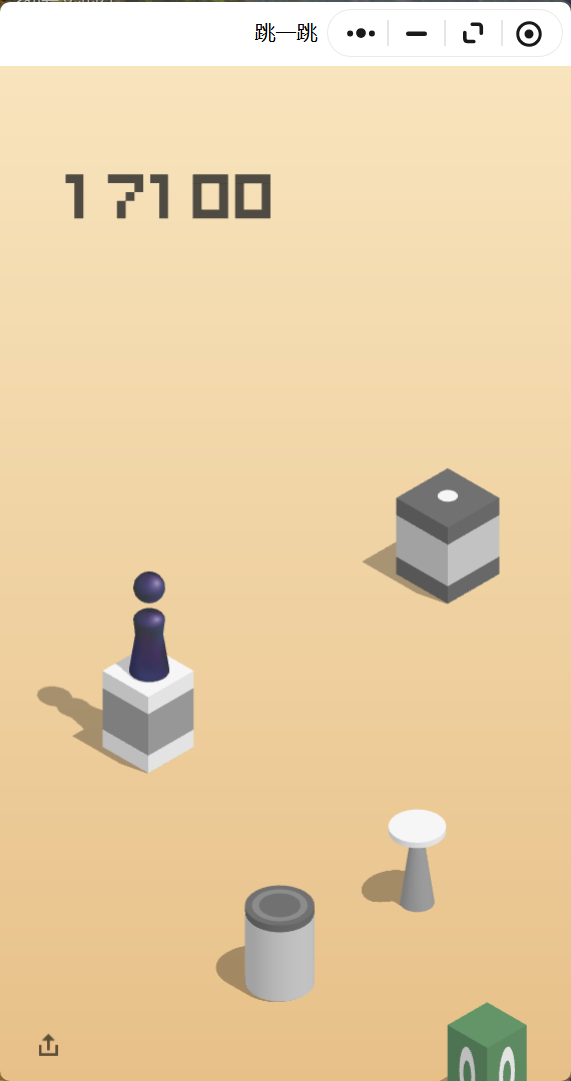piece: (133, 572, 164, 678)
target: (397, 468, 500, 528)
